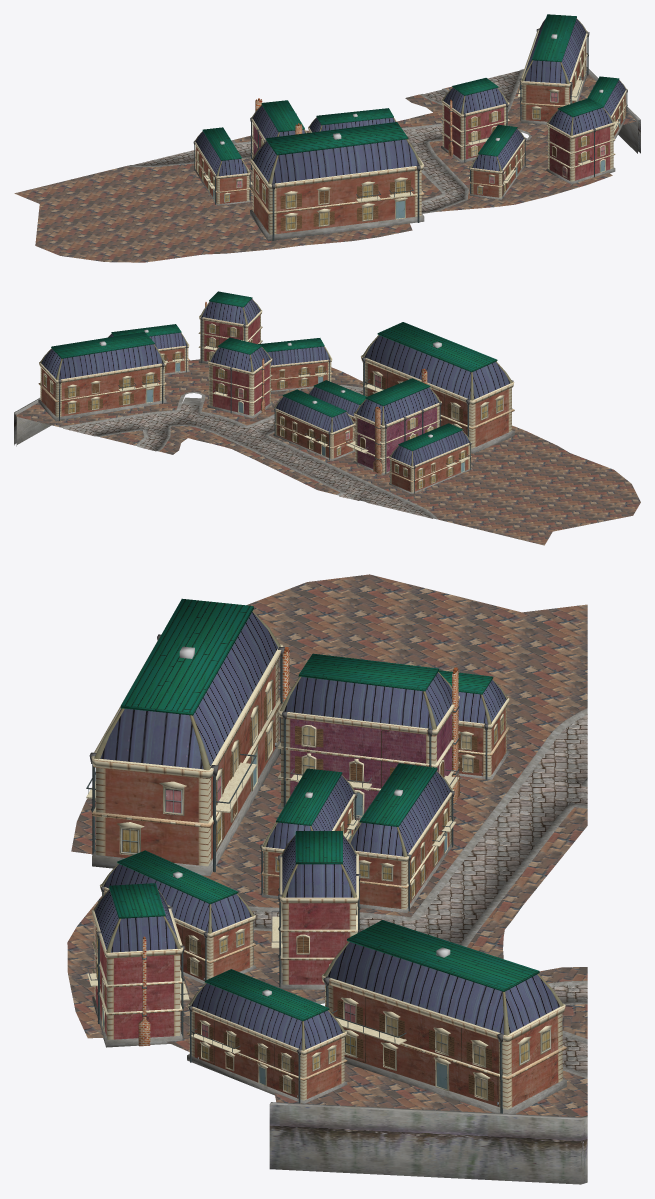
3 views of the same model, one above another, from view 1: azimuth 30°, elevation 25°; view 2: azimuth 150°, elevation 25°; view 3: azimuth 270°, elevation 25° (orthographic). The views are drawn at different scales.
Parts seen in each view (by area): view 1: main_road_road.006, stklib_silvianHouse_a_main_proxy.044_Cube.006, stklib_silvianHouse_a_main_proxy.002_Cube.006, stklib_silvianHouse_b_main_proxy.010_Cube.006, stklib_silvianHouse_b_main_proxy.011_Cube.006, stklib_silvianHouse_a_main_proxy.057_Cube.006, stklib_silvianHouse_a_main_proxy.006_Cube.006, stklib_silvianHouse_c_main_proxy.002_Cube.006, stklib_silvianHouse_a_main_proxy.005_Cube.006, stklib_silvianHouse_a_main_proxy.042_Cube.006; view 2: main_road_road.006, stklib_silvianHouse_a_main_proxy.044_Cube.006, stklib_silvianHouse_a_main_proxy.002_Cube.006, stklib_silvianHouse_c_main_proxy.002_Cube.006, stklib_silvianHouse_b_main_proxy.011_Cube.006, stklib_silvianHouse_a_main_proxy.057_Cube.006, stklib_silvianHouse_a_main_proxy.042_Cube.006, stklib_silvianHouse_b_main_proxy.010_Cube.006, stklib_silvianHouse_a_main_proxy.006_Cube.006, stklib_silvianHouse_a_main_proxy.005_Cube.006, stklib_silvianHouse_a_main_proxy.000_Cube.006; view 3: main_road_road.006, stklib_silvianHouse_a_main_proxy.044_Cube.006, stklib_silvianHouse_a_main_proxy.002_Cube.006, stklib_silvianHouse_c_main_proxy.002_Cube.006, stklib_silvianHouse_a_main_proxy.005_Cube.006, stklib_silvianHouse_b_main_proxy.010_Cube.006, stklib_silvianHouse_b_main_proxy.011_Cube.006, stklib_silvianHouse_a_main_proxy.042_Cube.006, stklib_silvianHouse_a_main_proxy.006_Cube.006, stklib_silvianHouse_a_main_proxy.000_Cube.006, stklib_silvianHouse_a_main_proxy.057_Cube.006.
Part boxes in pixels (left/top/right/bottom): main_road_road.006: left=14, top=67, right=640, bottom=262; stklib_silvianHouse_a_main_proxy.044_Cube.006: left=250, top=122, right=424, bottom=241; stklib_silvianHouse_a_main_proxy.002_Cube.006: left=517, top=14, right=589, bottom=124; stklib_silvianHouse_b_main_proxy.010_Cube.006: left=546, top=98, right=615, bottom=184; stklib_silvianHouse_b_main_proxy.011_Cube.006: left=441, top=78, right=509, bottom=162; stklib_silvianHouse_a_main_proxy.057_Cube.006: left=193, top=127, right=252, bottom=205; stklib_silvianHouse_a_main_proxy.006_Cube.006: left=468, top=124, right=526, bottom=199; stklib_silvianHouse_c_main_proxy.002_Cube.006: left=250, top=98, right=306, bottom=170; stklib_silvianHouse_a_main_proxy.005_Cube.006: left=587, top=76, right=627, bottom=141; stklib_silvianHouse_a_main_proxy.042_Cube.006: left=308, top=108, right=396, bottom=132; main_road_road.006: left=14, top=359, right=640, bottom=545; stklib_silvianHouse_a_main_proxy.044_Cube.006: left=360, top=322, right=514, bottom=453; stklib_silvianHouse_a_main_proxy.002_Cube.006: left=38, top=332, right=166, bottom=421; stklib_silvianHouse_c_main_proxy.002_Cube.006: left=346, top=368, right=442, bottom=474; stklib_silvianHouse_b_main_proxy.011_Cube.006: left=207, top=337, right=272, bottom=418; stklib_silvianHouse_a_main_proxy.057_Cube.006: left=389, top=423, right=472, bottom=494; stklib_silvianHouse_a_main_proxy.042_Cube.006: left=273, top=389, right=355, bottom=460; stklib_silvianHouse_b_main_proxy.010_Cube.006: left=198, top=291, right=262, bottom=363; stklib_silvianHouse_a_main_proxy.006_Cube.006: left=258, top=338, right=332, bottom=392; stklib_silvianHouse_a_main_proxy.005_Cube.006: left=108, top=324, right=189, bottom=374; stklib_silvianHouse_a_main_proxy.000_Cube.006: left=308, top=380, right=366, bottom=440; main_road_road.006: left=67, top=574, right=587, bottom=1184; stklib_silvianHouse_a_main_proxy.044_Cube.006: left=86, top=598, right=284, bottom=875; stklib_silvianHouse_a_main_proxy.002_Cube.006: left=321, top=920, right=566, bottom=1113; stklib_silvianHouse_c_main_proxy.002_Cube.006: left=277, top=647, right=460, bottom=818; stklib_silvianHouse_a_main_proxy.005_Cube.006: left=187, top=969, right=347, bottom=1103; stklib_silvianHouse_b_main_proxy.010_Cube.006: left=87, top=883, right=189, bottom=1047; stklib_silvianHouse_b_main_proxy.011_Cube.006: left=271, top=831, right=362, bottom=989; stklib_silvianHouse_a_main_proxy.042_Cube.006: left=348, top=763, right=456, bottom=912; stklib_silvianHouse_a_main_proxy.006_Cube.006: left=100, top=850, right=255, bottom=983; stklib_silvianHouse_a_main_proxy.000_Cube.006: left=260, top=768, right=359, bottom=898; stklib_silvianHouse_a_main_proxy.057_Cube.006: left=438, top=670, right=509, bottom=779.
Bounding box in the file's own units: 286 × 52.43 × 114.
22 materials, 21 textured.
